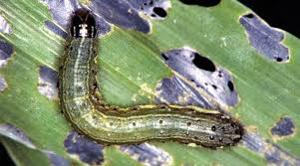fallarmy_worm: (58, 9, 246, 154)
